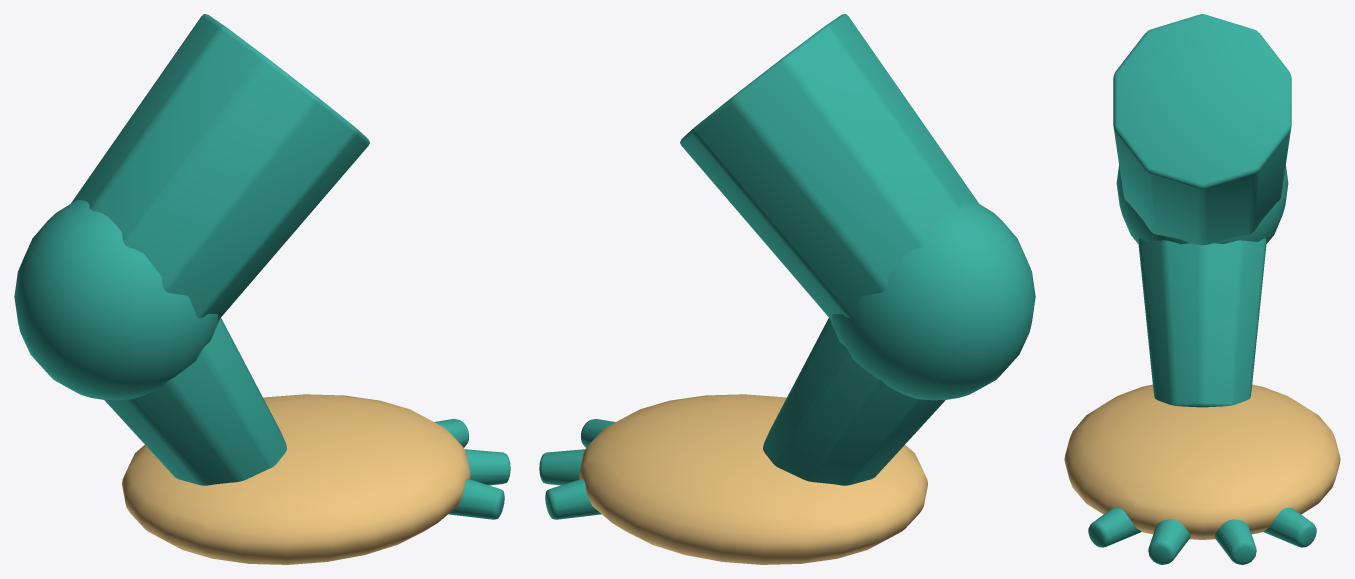
Rendered from leg_sucker.glb.
The picture shows the model from 3 angles, left to right: view 1: azimuth 30°, elevation 25°; view 2: azimuth 150°, elevation 25°; view 3: azimuth 270°, elevation 25°; orthographic projection. The views are drawn at different scales.
Visible parts, largest first — view 1: leg_sucker; view 2: leg_sucker; view 3: leg_sucker.
Boxes of the visible parts, x1,y1,x2,y2 form: leg_sucker: (14, 14, 510, 564); leg_sucker: (539, 14, 1035, 564); leg_sucker: (1064, 14, 1340, 564).
Bounding box in the file's own units: 1.14 × 1.24 × 0.6755.
